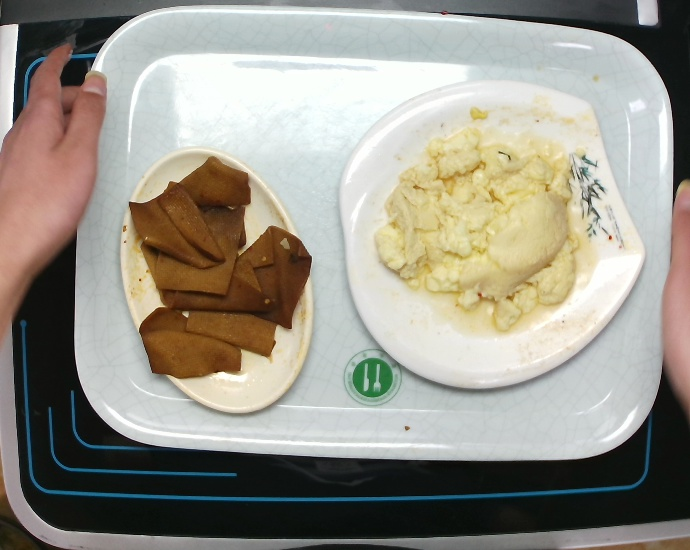JYsf-Mian_Pan: (335, 73, 648, 394)
JYsf-Tuo_Yuan_Wan: (121, 143, 317, 423)
